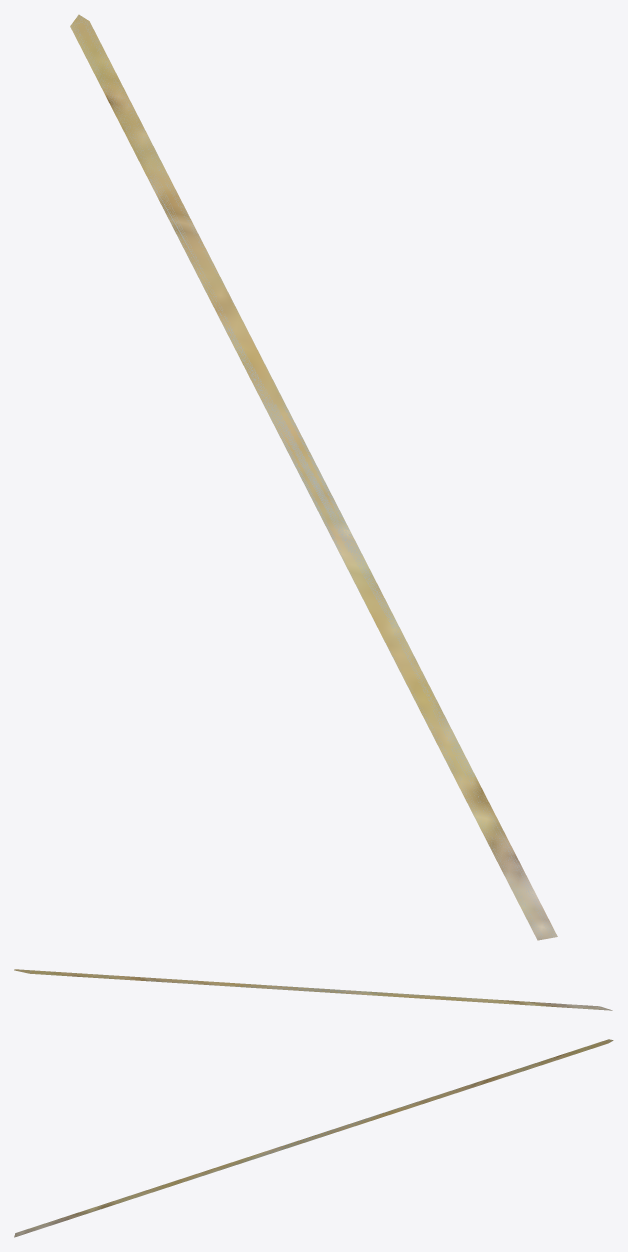
The model's file is 西庸城堡376.dae.
3 views of the same model, one above another, from view 1: azimuth 30°, elevation 25°; view 2: azimuth 150°, elevation 25°; view 3: azimuth 270°, elevation 25° (orthographic). The views are drawn at different scales.
Visible parts, largest first — view 1: SketchUp; view 2: SketchUp; view 3: SketchUp.
Part boxes in pixels (<box>): SketchUp: <box>70,14,557,940</box>; SketchUp: <box>14,969,612,1010</box>; SketchUp: <box>14,1039,613,1237</box>.
Bounding box in the file's own units: 79.86 × 572 × 239.
